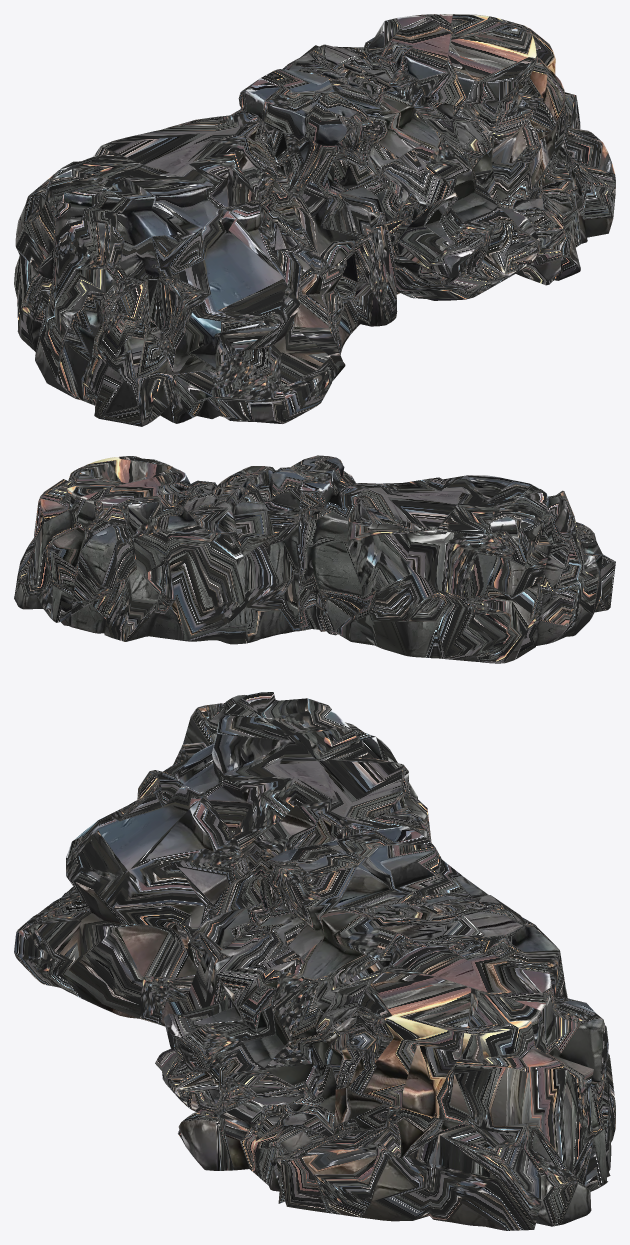
File: stone_wall.glb
3 renders of one model, top to bottom at view 1: azimuth 30°, elevation 25°; view 2: azimuth 150°, elevation 25°; view 3: azimuth 270°, elevation 25°, orthographic. The views are drawn at different scales.
Parts seen in each view (by area): view 1: Mesh_0; view 2: Mesh_0; view 3: Mesh_0.
Part boxes in pixels (x1,y1,x2,y2): Mesh_0: (14, 14, 615, 426); Mesh_0: (14, 455, 615, 663); Mesh_0: (14, 692, 615, 1230).
Bounding box in the file's own units: 1.88 × 0.5105 × 1.35.
1 material, 1 textured.
